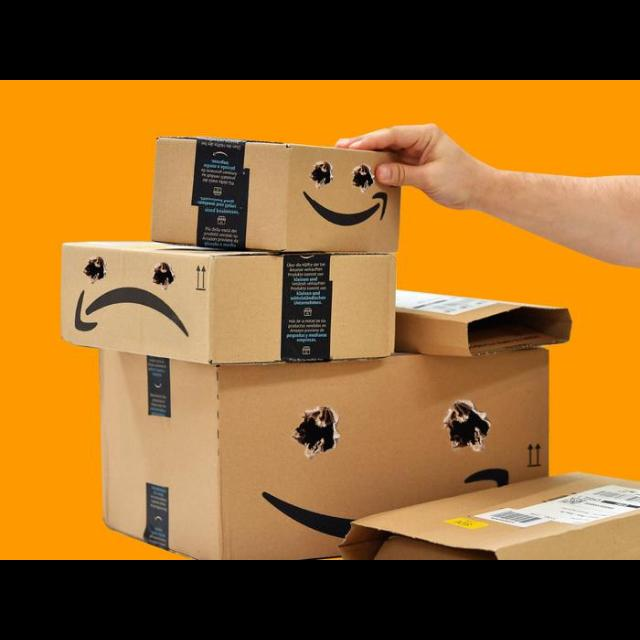box: (100, 340, 548, 560), (63, 239, 395, 361), (151, 125, 405, 257), (342, 470, 640, 560)
